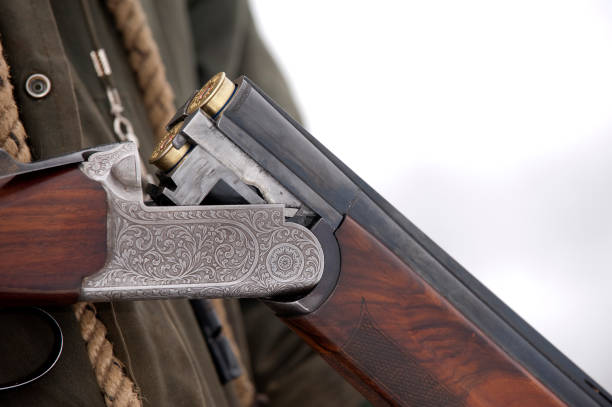shotgun: (1, 67, 612, 396)
